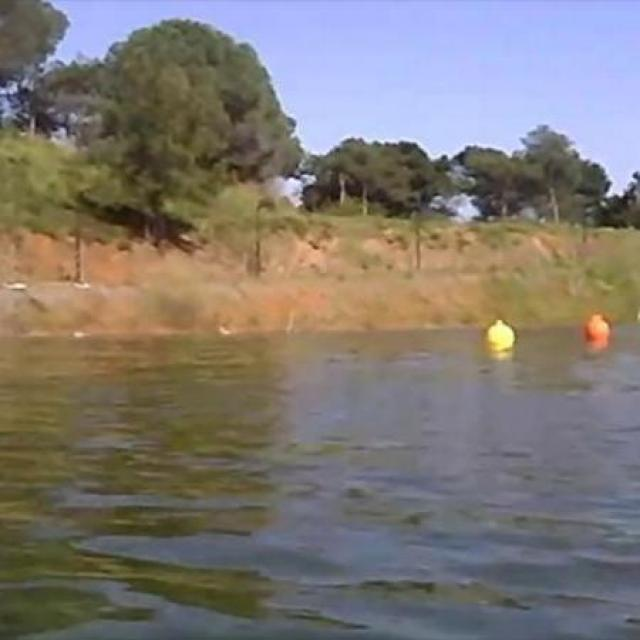buoy: (489, 321, 514, 353), (585, 312, 608, 344)
